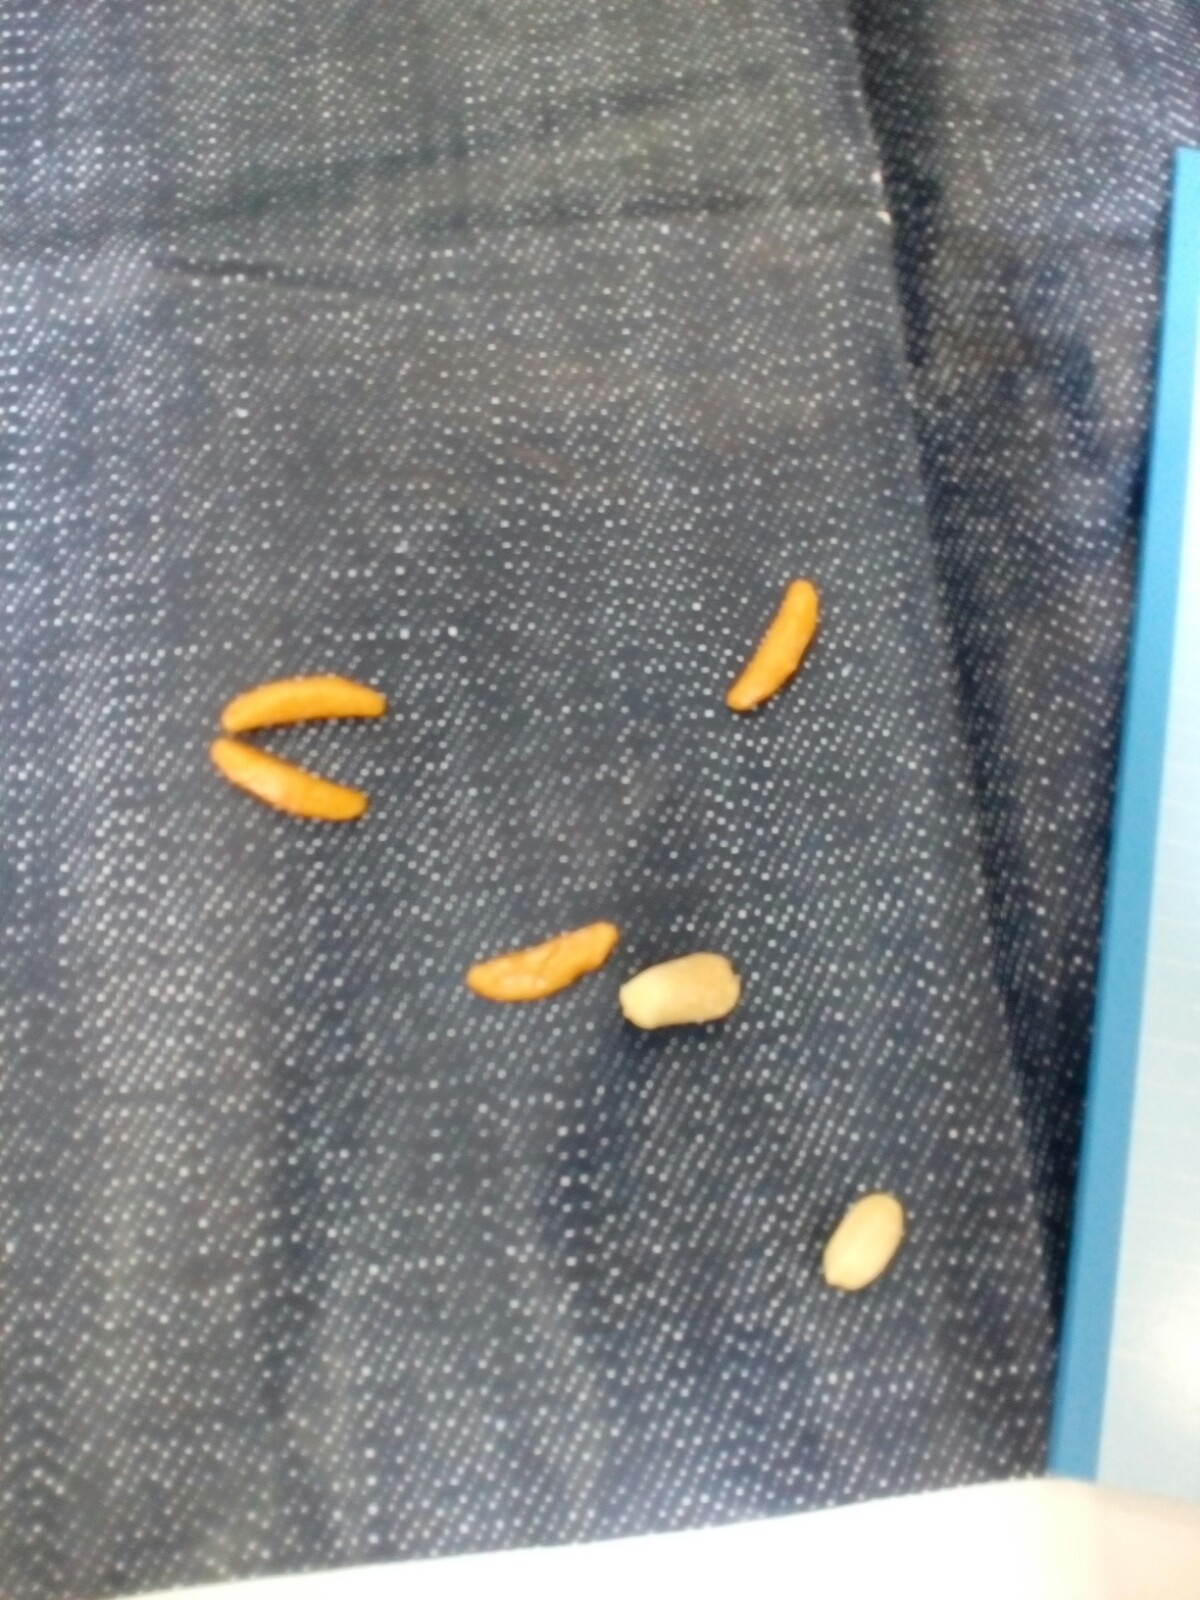peanut: (807, 1184, 920, 1304), (614, 946, 747, 1042)
